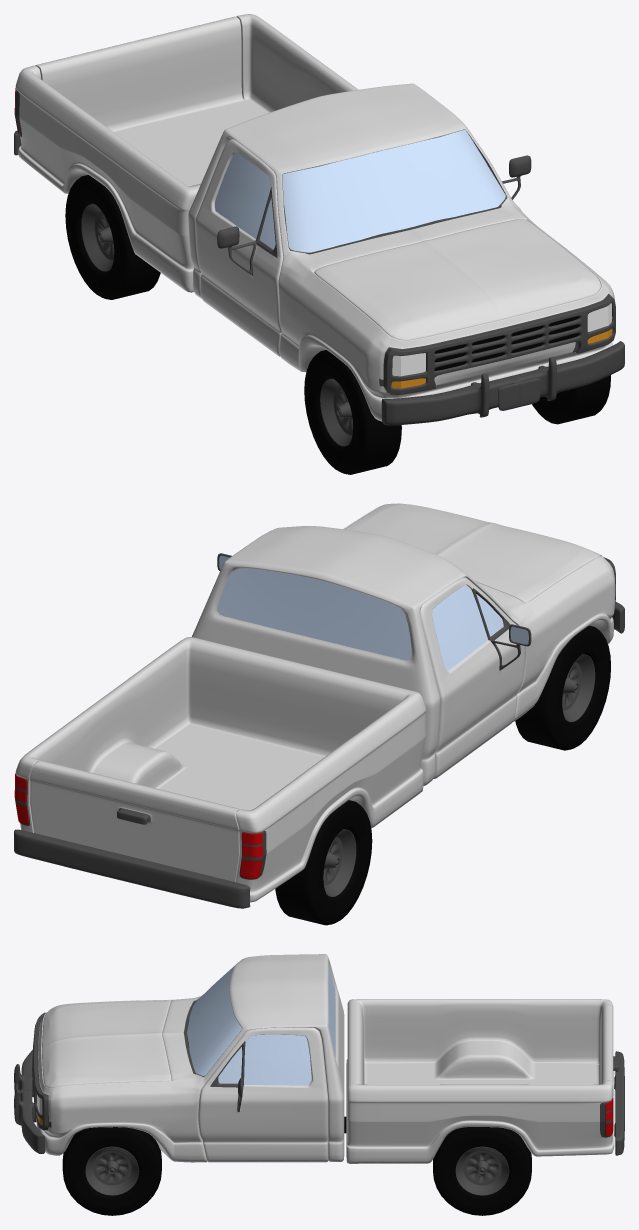
The model's file is Pick-UpOld.fbx.
3 views of the same model, one above another, from view 1: azimuth 30°, elevation 25°; view 2: azimuth 150°, elevation 25°; view 3: azimuth 270°, elevation 25° (orthographic). The views are drawn at different scales.
Parts seen in each view (by area): view 1: Cube, Cubo, Plane, Círculo.004, Círculo.007, Círculo.001, Círculo.006, Círculo.005, Cubo.004, Cubo.002; view 2: Cubo, Cube, Plane, Círculo.007, Círculo.004, Círculo.006, Círculo.005; view 3: Cube, Cubo, Plane, Círculo.001, Círculo.002, Círculo.003, Círculo.
Boxes of the visible parts, box(x1,y1,x2,y2) form: Cube: box(188, 83, 624, 425); Cubo: box(14, 14, 358, 292); Plane: box(215, 129, 505, 252); Círculo.004: box(304, 350, 401, 474); Círculo.007: box(65, 175, 160, 299); Círculo.001: box(532, 375, 610, 424); Círculo.006: box(81, 203, 114, 271); Círculo.005: box(320, 378, 353, 446); Cubo.004: box(434, 316, 579, 370); Cubo.002: box(392, 303, 612, 376); Cubo: box(14, 637, 425, 908); Cube: box(192, 503, 624, 785); Plane: box(217, 555, 528, 670); Círculo.007: box(275, 800, 372, 925); Círculo.004: box(515, 625, 610, 750); Círculo.006: box(323, 829, 356, 896); Círculo.005: box(562, 654, 595, 722); Cube: box(14, 954, 344, 1162); Cubo: box(346, 999, 624, 1163); Plane: box(187, 966, 335, 1085); Círculo.001: box(62, 1127, 161, 1215); Círculo.002: box(433, 1127, 531, 1215); Círculo.003: box(455, 1146, 509, 1195); Círculo: box(85, 1146, 139, 1195).
Bounding box in the file's own units: 305 × 665 × 228.
